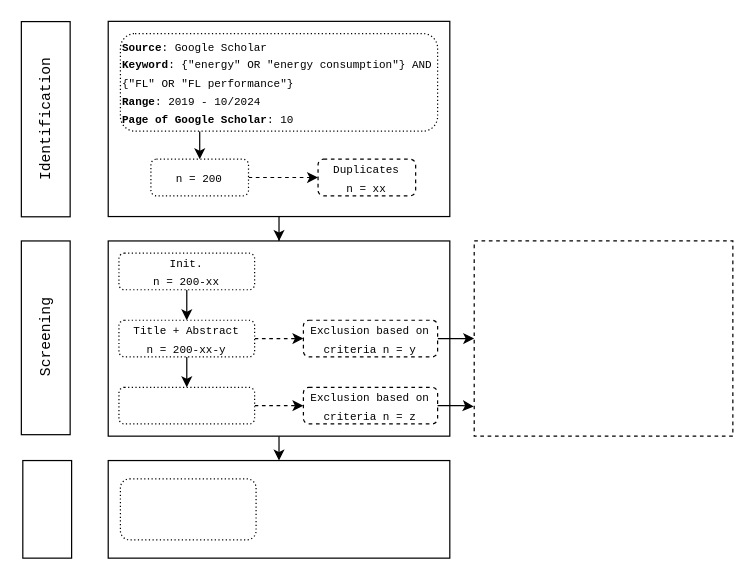
Some shapes in this 755 by 580 pixel diagram are drawn without their labels. Here are the shapes that lost their labels. From the top down, the box of each, then its label:
(473, 240, 733, 436): Article excluded with reason: sss sss sss (n = )
(118, 386, 255, 424): Reading details n = 200-xx-y-z
(22, 459, 72, 558): Inclusion
(119, 478, 256, 540): Final articles included n = abc
